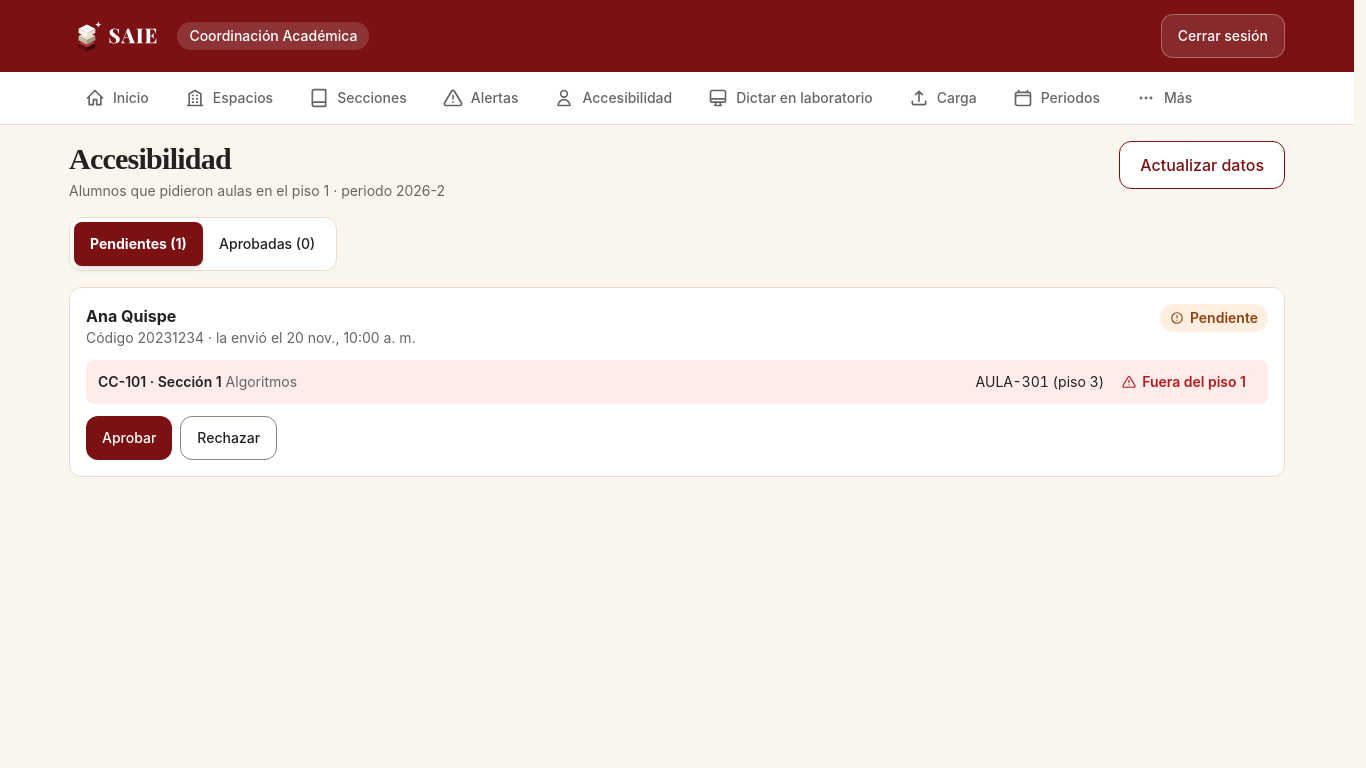
Scenario: AccesibilidadAdminPage (Issue 3.60) › aprueba con confirmación y vuelve a cargar
Click the button "Aprobar": click(129, 438) [86,416,172,460]
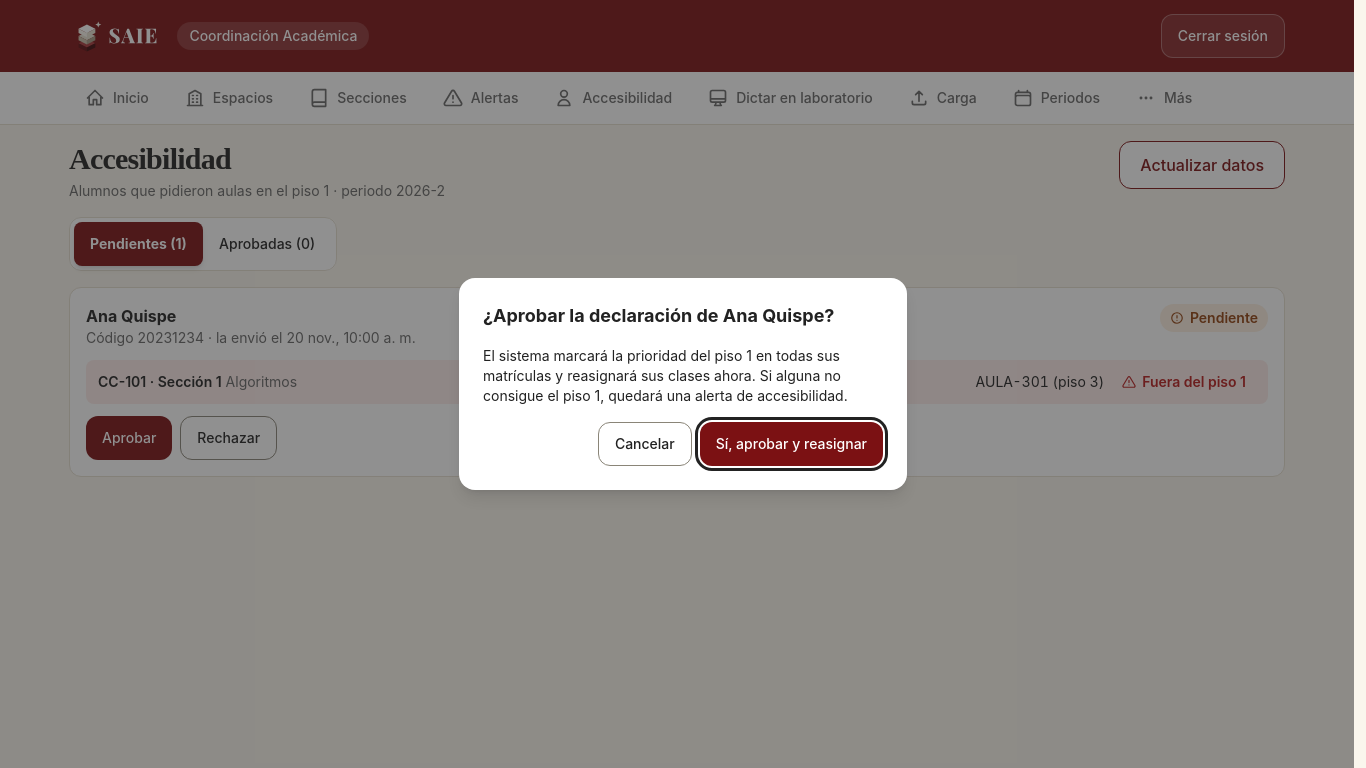
Expected: the text "reasignará sus clases" is shown, [483,347,848,404]
Click the button "Sí, aprobar y reasignar": click(791, 444) [700,422,883,466]
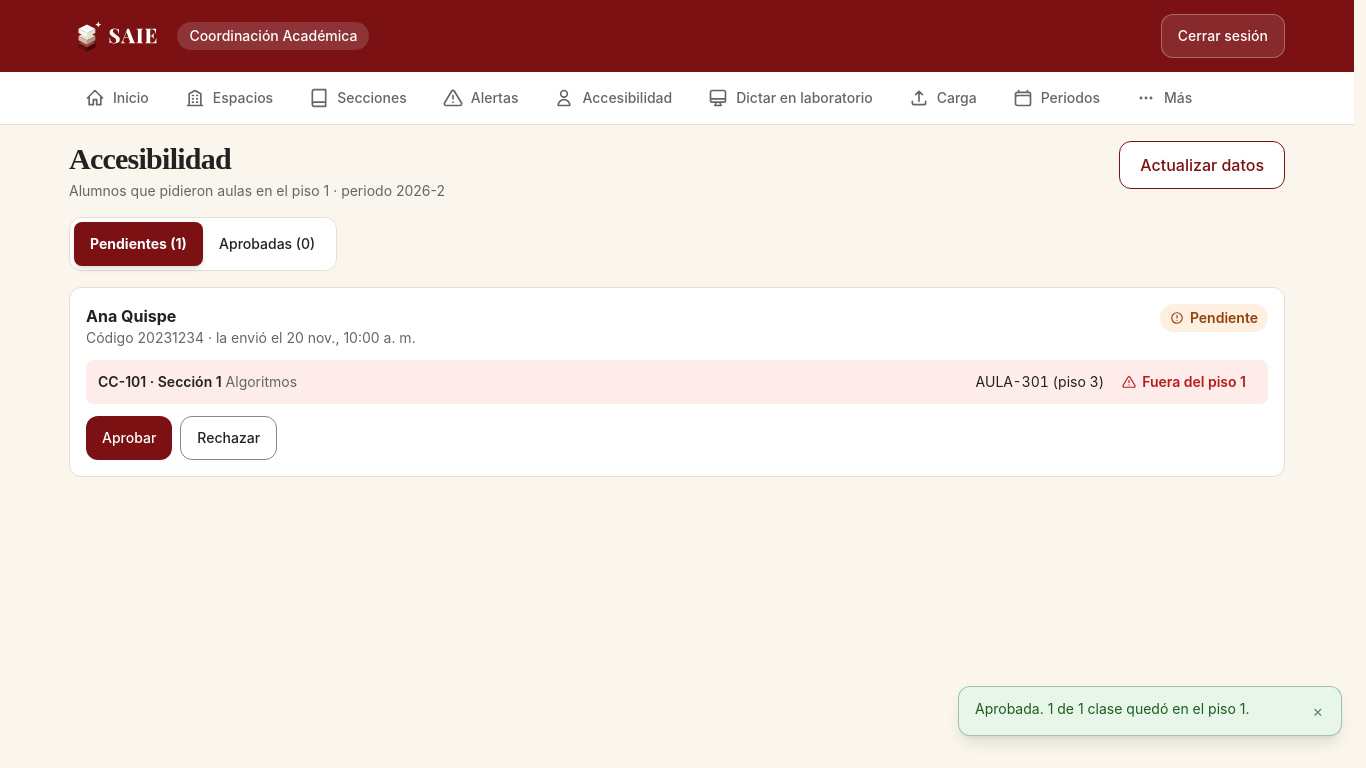
Expected: the text "Aprobada. 1 de 1 clase quedó en el piso 1." is shown, [975,699,1294,719]
